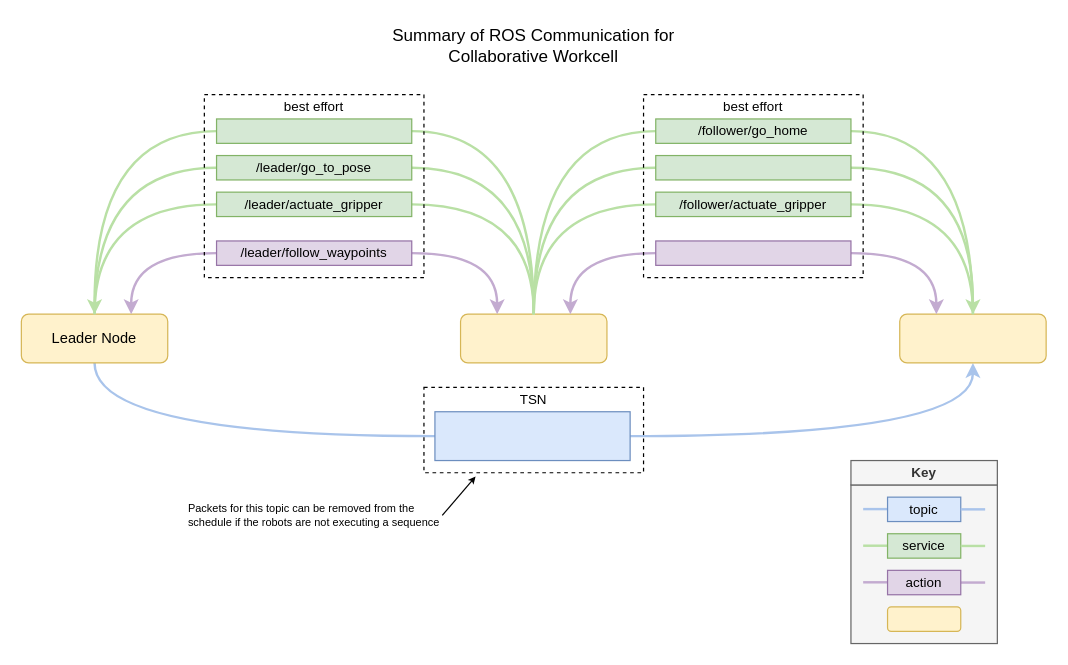
The diagram is 1068 pixels wide and 665 high, and some of its shapes have lost their labels. Here are the shapes that lost their labels. From the top down, the centre of each, then its label:
pixel 313 130: /leader/go_home
pixel 753 167: /follower/go_to_pose
pixel 753 252: /follower/follow_frame
pixel 533 338: Supervisor Node
pixel 972 338: Follower Node
pixel 532 436: /follower/desired_tcp_pose 95 kB/s (760 Bytes at 125 Hz)
pixel 923 618: node
